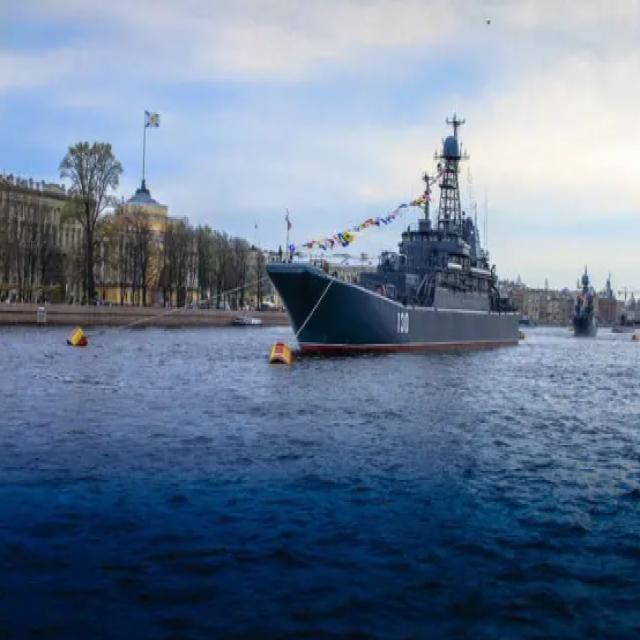navalvessels: (254, 106, 524, 356), (567, 254, 598, 330)
